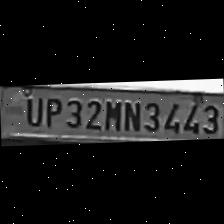2: (80, 96, 102, 130)
3: (60, 94, 82, 128), (140, 97, 160, 132), (198, 100, 218, 134)
4: (160, 98, 182, 132), (180, 99, 198, 132)
M: (102, 96, 120, 132)
N: (121, 97, 139, 132)
P: (40, 94, 61, 128)
U: (20, 94, 42, 128)
